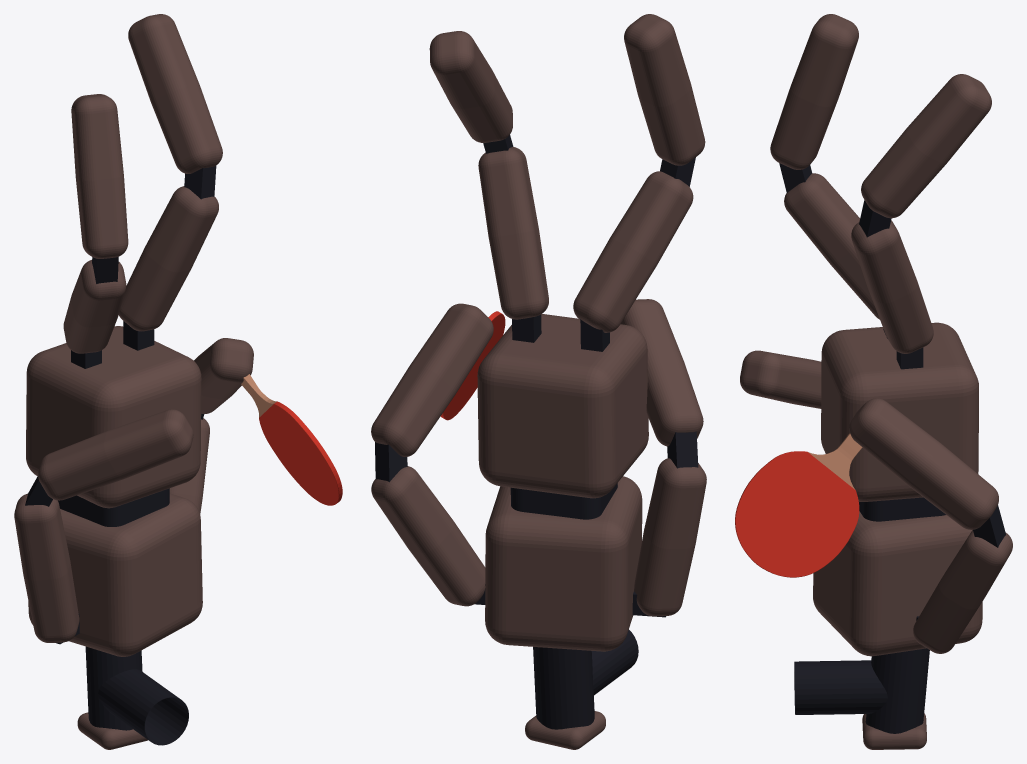
The model's file is pingpong.obj.
3 views of the same model, side by side, from view 1: azimuth 30°, elevation 25°; view 2: azimuth 150°, elevation 25°; view 3: azimuth 270°, elevation 25° (orthographic). The views are drawn at different scales.
Parts seen in each view (by area): view 1: Cylinder.003, Cylinder.010_Cylinder.024, Cylinder.019, Cylinder.001, Cylinder.007, Cylinder.011, Cylinder.017, Cylinder.005, Plane_Plane.001, Cylinder.009, Cylinder.015, Cylinder.021 (+4 smaller); view 2: Cylinder.003, Cylinder.010_Cylinder.024, Cylinder.009, Cylinder.015, Cylinder.017, Cylinder.005, Cylinder.001, Cylinder.011, Cylinder.013, Cylinder.019, Cylinder.007, Cylinder.021 (+5 smaller); view 3: Cylinder.003, Cylinder.010_Cylinder.024, Plane_Plane.001, Cylinder.001, Cylinder.015, Cylinder.019, Cylinder.011, Cylinder.017, Cylinder.013, Cylinder.009, Cylinder.007, Cylinder.021 (+4 smaller).
Boxes of the visible parts, x1=… form: Cylinder.003: x1=26, y1=326, x2=201, y2=508; Cylinder.010_Cylinder.024: x1=28, y1=493, x2=202, y2=656; Cylinder.019: x1=128, y1=14, x2=222, y2=173; Cylinder.001: x1=77, y1=646, x2=188, y2=749; Cylinder.007: x1=38, y1=409, x2=193, y2=500; Cylinder.011: x1=71, y1=94, x2=128, y2=258; Cylinder.017: x1=118, y1=186, x2=218, y2=331; Cylinder.005: x1=14, y1=493, x2=79, y2=642; Plane_Plane.001: x1=241, y1=374, x2=342, y2=505; Cylinder.009: x1=63, y1=260, x2=126, y2=353; Cylinder.015: x1=194, y1=338, x2=253, y2=413; Cylinder.021: x1=58, y1=488, x2=169, y2=526; Cylinder.003: x1=477, y1=314, x2=648, y2=498; Cylinder.010_Cylinder.024: x1=485, y1=476, x2=642, y2=651; Cylinder.009: x1=573, y1=171, x2=693, y2=332; Cylinder.015: x1=371, y1=303, x2=493, y2=456; Cylinder.017: x1=478, y1=147, x2=548, y2=319; Cylinder.005: x1=634, y1=458, x2=706, y2=616; Cylinder.001: x1=525, y1=629, x2=638, y2=749; Cylinder.011: x1=624, y1=14, x2=705, y2=165; Cylinder.013: x1=371, y1=466, x2=485, y2=606; Cylinder.019: x1=429, y1=31, x2=512, y2=142; Cylinder.007: x1=620, y1=299, x2=703, y2=446; Cylinder.021: x1=510, y1=483, x2=617, y2=519; Cylinder.003: x1=821, y1=322, x2=978, y2=501; Cylinder.010_Cylinder.024: x1=813, y1=511, x2=982, y2=656; Plane_Plane.001: x1=735, y1=433, x2=862, y2=577; Cylinder.001: x1=794, y1=648, x2=929, y2=749; Cylinder.015: x1=849, y1=398, x2=998, y2=529; Cylinder.019: x1=861, y1=74, x2=991, y2=218; Cylinder.011: x1=770, y1=14, x2=858, y2=169; Cylinder.017: x1=851, y1=220, x2=933, y2=353; Cylinder.013: x1=913, y1=530, x2=1012, y2=653; Cylinder.009: x1=784, y1=173, x2=879, y2=319; Cylinder.007: x1=740, y1=350, x2=821, y2=408; Cylinder.021: x1=859, y1=497, x2=945, y2=521.
Size of the model in its own units: 1.45 by 3.42 by 1.23.
